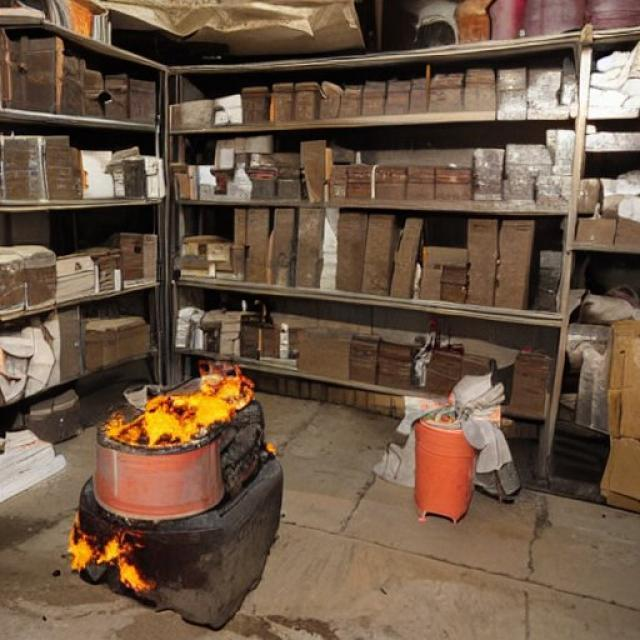Fire: (109, 366, 251, 454), (56, 519, 146, 591)
